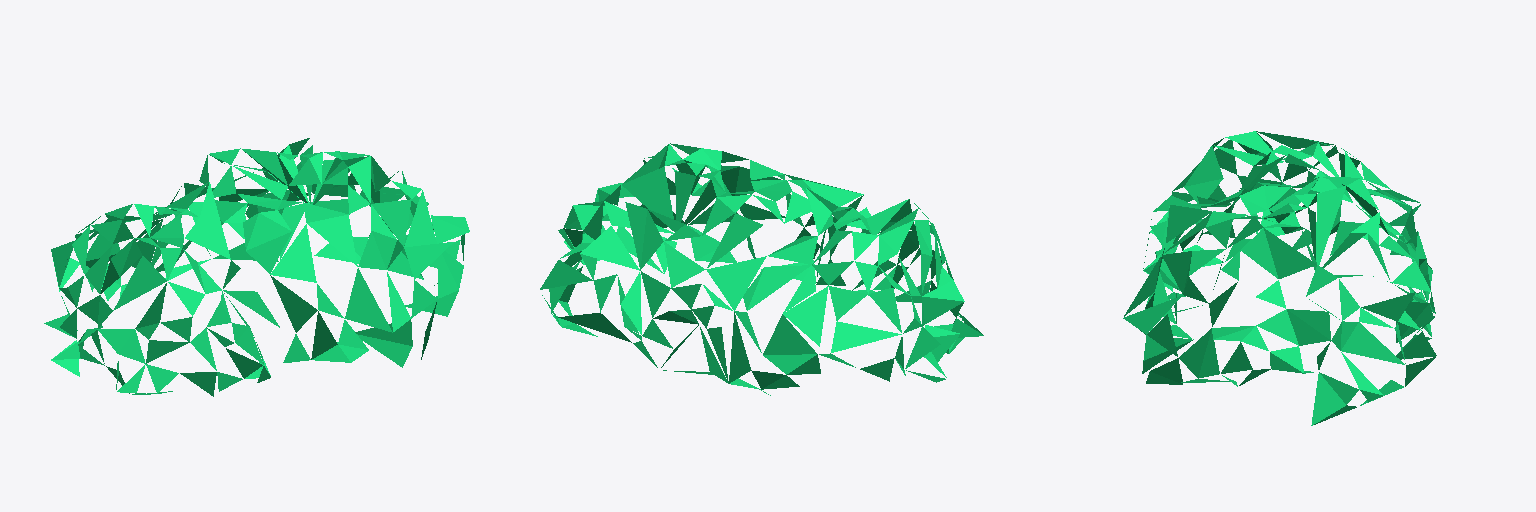
The model's file is WrightBuckwheat_LOD3.obj.
The picture shows the model from 3 angles: view 1: azimuth 30°, elevation 25°; view 2: azimuth 150°, elevation 25°; view 3: azimuth 270°, elevation 25°; orthographic projection.
Parts seen in each view (by area): view 1: WrightBuckwheat_LOD3; view 2: WrightBuckwheat_LOD3; view 3: WrightBuckwheat_LOD3.
Part boxes in pixels (bbox=[...]): WrightBuckwheat_LOD3: bbox=[44, 138, 469, 396]; WrightBuckwheat_LOD3: bbox=[540, 143, 983, 395]; WrightBuckwheat_LOD3: bbox=[1123, 131, 1436, 425].
Size of the model in its own units: 101 by 41.04 by 71.39.